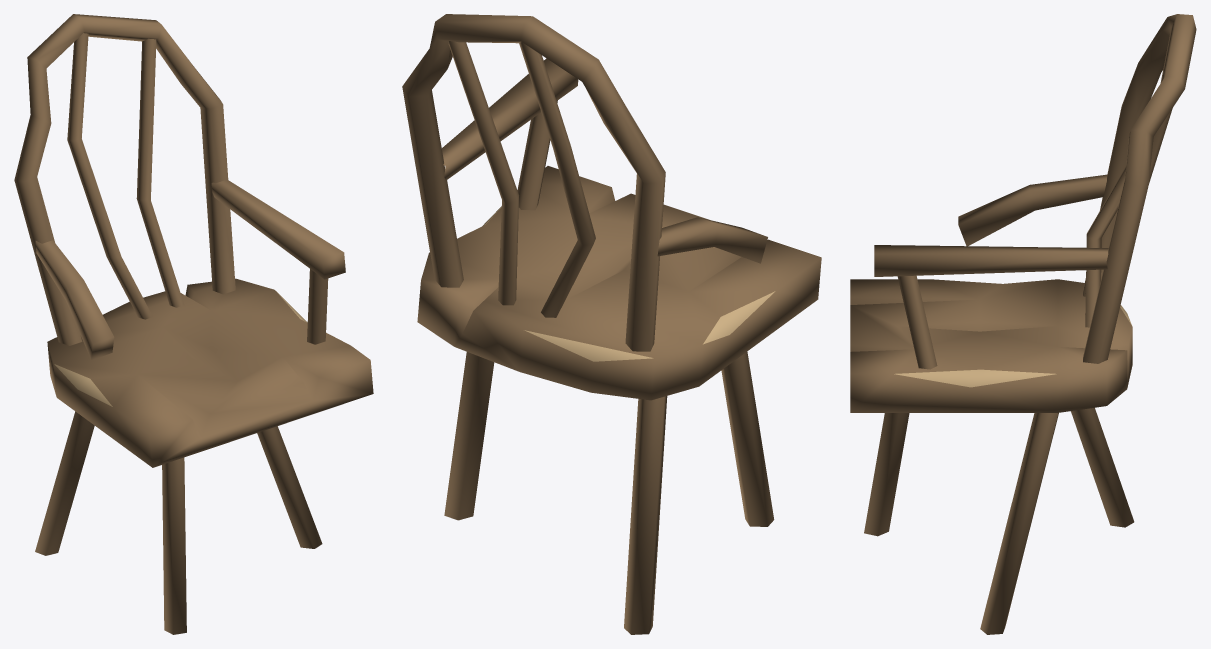
Rendered from rpgpp_av_chair_01b.gltf.
3 views of the same model, side by side, from view 1: azimuth 30°, elevation 25°; view 2: azimuth 150°, elevation 25°; view 3: azimuth 270°, elevation 25° (orthographic). The views are drawn at different scales.
Visible parts, largest first — view 1: rpgpp_av_chair_01b; view 2: rpgpp_av_chair_01b; view 3: rpgpp_av_chair_01b.
Boxes of the visible parts, bbox=[...] form: rpgpp_av_chair_01b: bbox=[14, 14, 373, 634]; rpgpp_av_chair_01b: bbox=[402, 14, 821, 634]; rpgpp_av_chair_01b: bbox=[850, 14, 1196, 634].
Size of the model in its own units: 0.00438 by 0.00861 by 0.005.
1 material, 1 textured.
